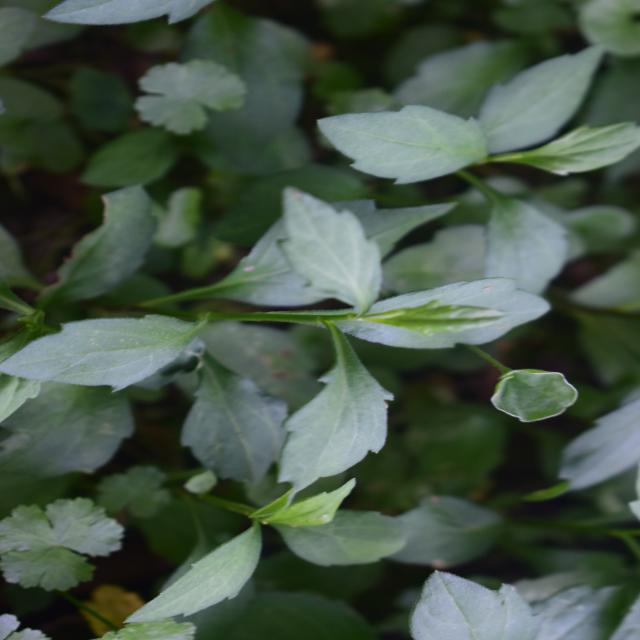Indian aster: (217, 116, 459, 612), (50, 0, 270, 310)
